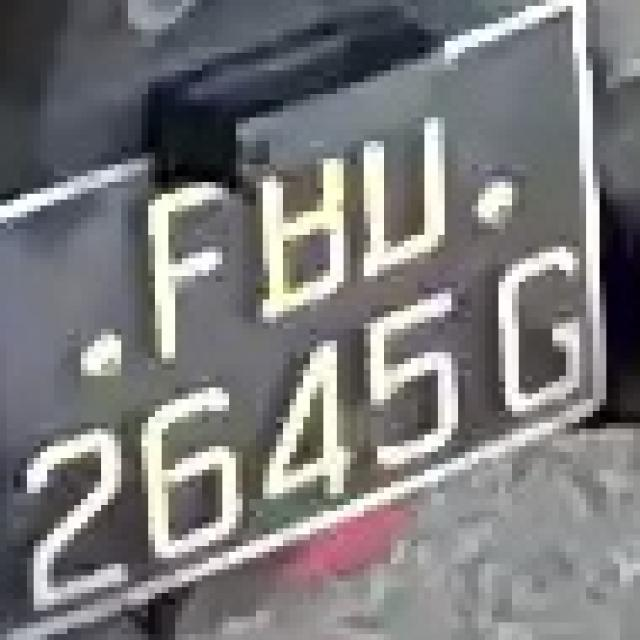2: (13, 411, 122, 628)
4: (243, 323, 384, 517)
5: (344, 282, 478, 487)
6: (142, 358, 250, 576)
B: (236, 94, 370, 323)
D: (337, 94, 471, 288)
F: (135, 152, 229, 388)
G: (465, 246, 613, 428)
